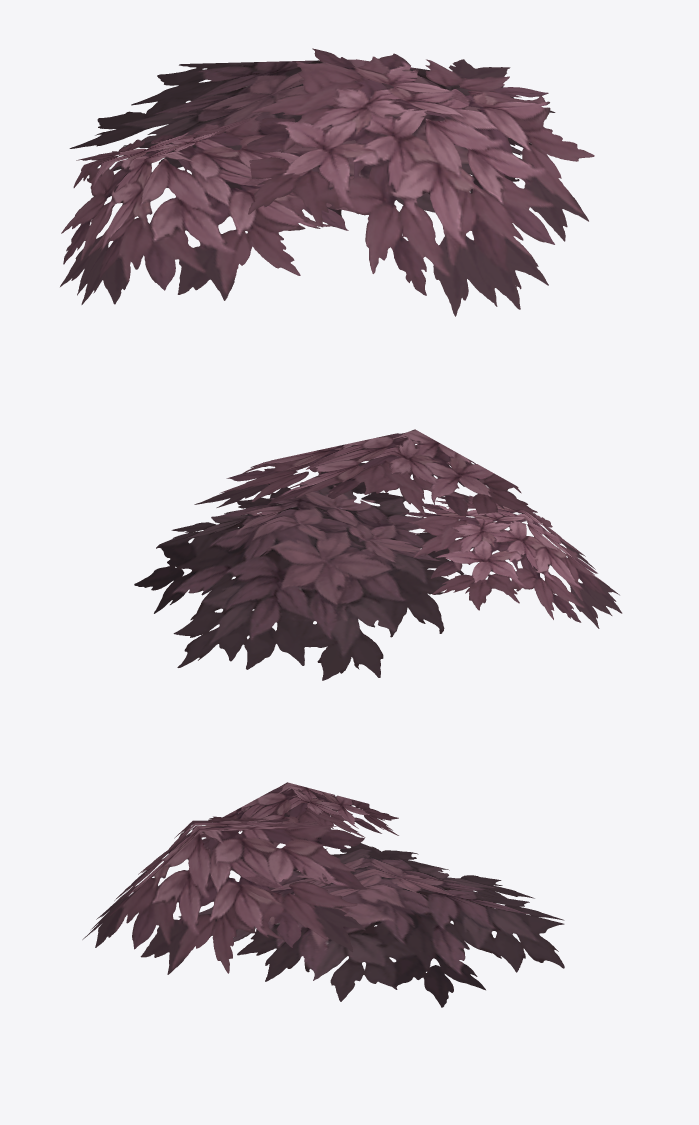
File: fb_yuqinggong_guanmu01.FBX
The picture shows the model from 3 angles, top to bottom: view 1: azimuth 30°, elevation 25°; view 2: azimuth 150°, elevation 25°; view 3: azimuth 270°, elevation 25°; orthographic projection. The views are drawn at different scales.
Parts seen in each view (by area): view 1: fb_yuqinggong_guanmu01; view 2: fb_yuqinggong_guanmu01; view 3: fb_yuqinggong_guanmu01.
Part boxes in pixels (bbox=[...]): fb_yuqinggong_guanmu01: bbox=[60, 48, 594, 316]; fb_yuqinggong_guanmu01: bbox=[134, 429, 622, 680]; fb_yuqinggong_guanmu01: bbox=[82, 782, 564, 1007].
Bounding box in the file's own units: 237 × 62.12 × 246.
